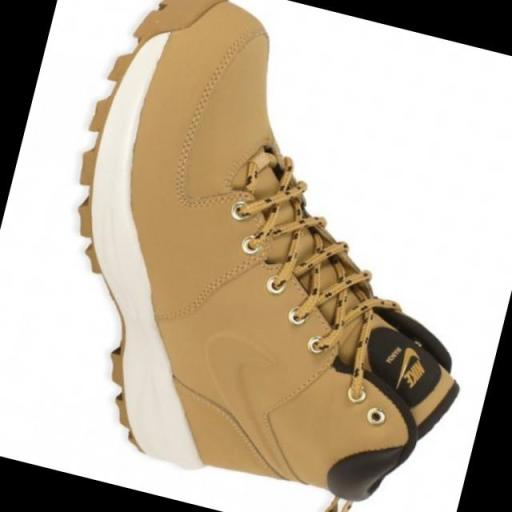Nike: (399, 356, 424, 391), (395, 346, 417, 384)
